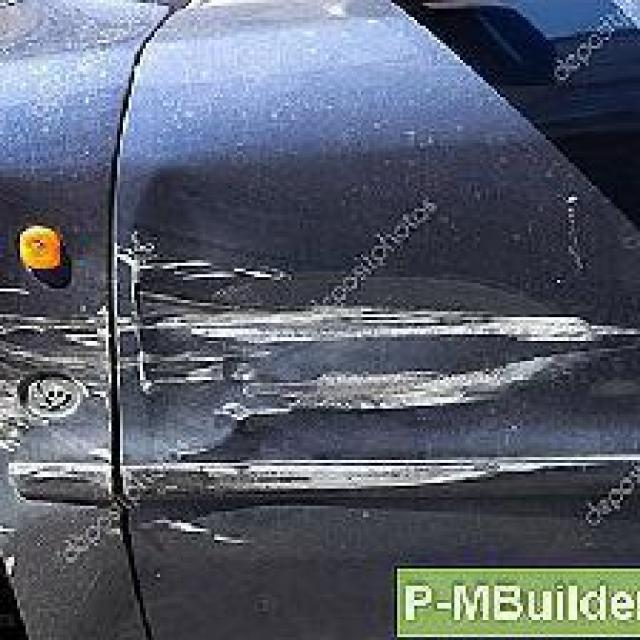damaged: (5, 232, 638, 548)
